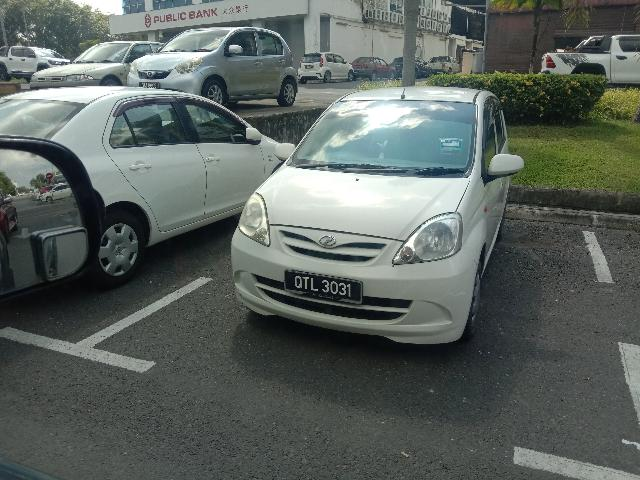License_Plate: (286, 270, 364, 307)
car: (220, 82, 536, 355), (1, 84, 311, 294), (128, 22, 304, 109)
